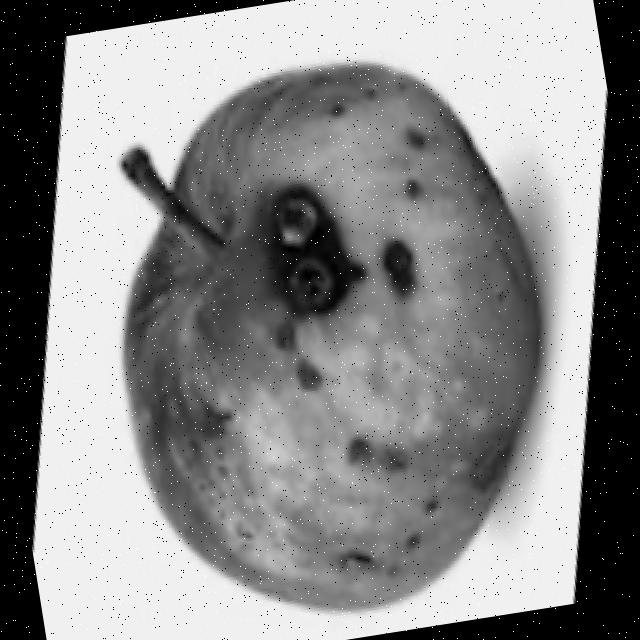Rotten: (76, 31, 585, 640)
